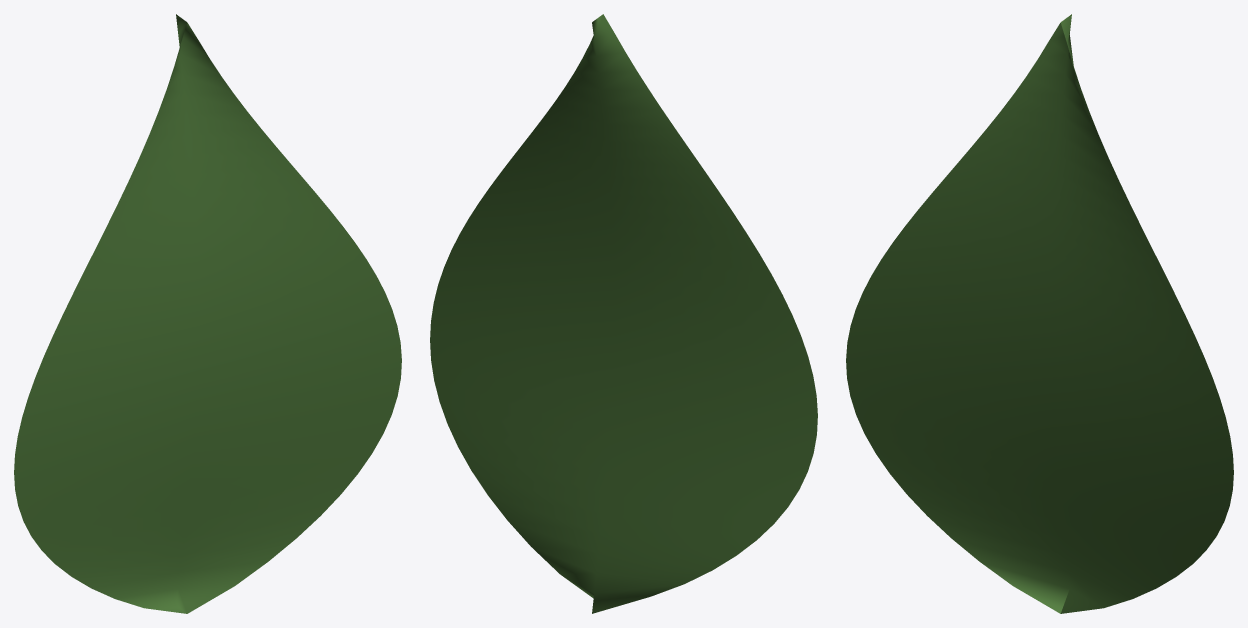
File: leaf-heart.glb
3 renders of one model, left to right at view 1: azimuth 30°, elevation 25°; view 2: azimuth 150°, elevation 25°; view 3: azimuth 330°, elevation 25°, orthographic.
Parts seen in each view (by area): view 1: tint-surface; view 2: tint-surface; view 3: tint-surface.
Boxes of the visible parts, x1,y1,x2,y2 form: tint-surface: [14, 14, 401, 613]; tint-surface: [430, 14, 817, 613]; tint-surface: [846, 14, 1233, 613].
Bounding box in the file's own units: 0.6845 × 1 × 0.105.
